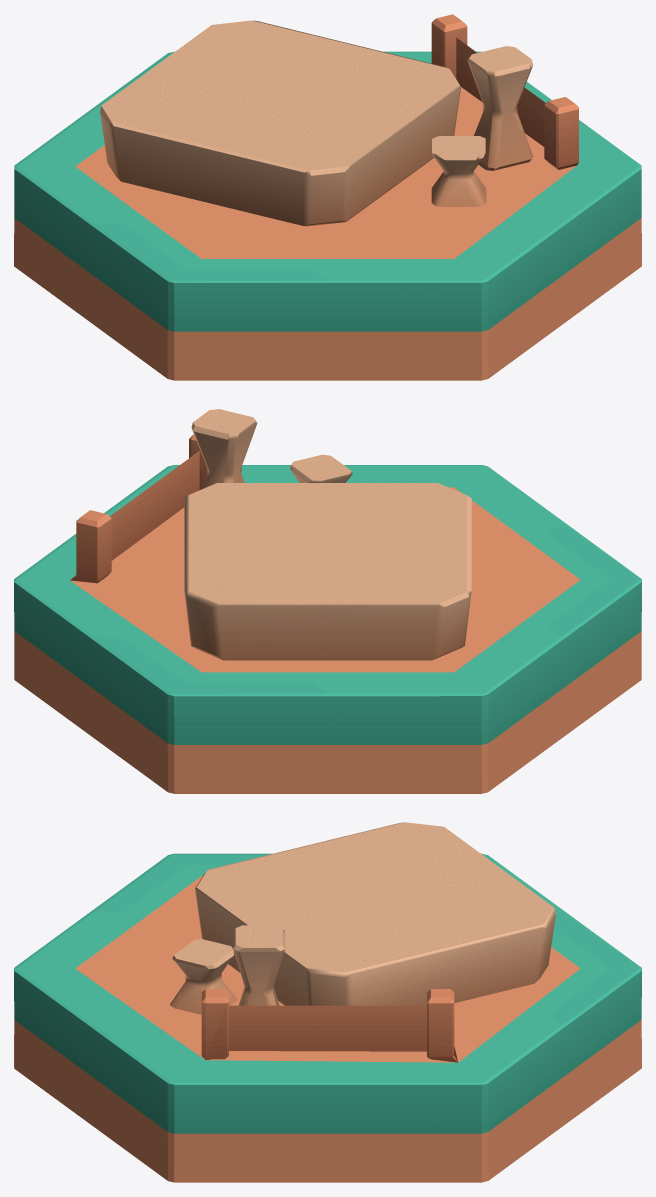
File: kenney-hexagon__building-farm.glb
3 views of the same model, one above another, from view 1: azimuth 30°, elevation 25°; view 2: azimuth 150°, elevation 25°; view 3: azimuth 270°, elevation 25° (orthographic).
Visible parts, largest first — view 1: building-farm; view 2: building-farm; view 3: building-farm.
Part boxes in pixels (x1,y1,x2,y2): building-farm: (14, 14, 641, 380); building-farm: (14, 409, 641, 793); building-farm: (14, 822, 641, 1182).
Size of the model in its own units: 1 by 0.4 by 1.15.
Materials: 1 (1 with a texture image).
